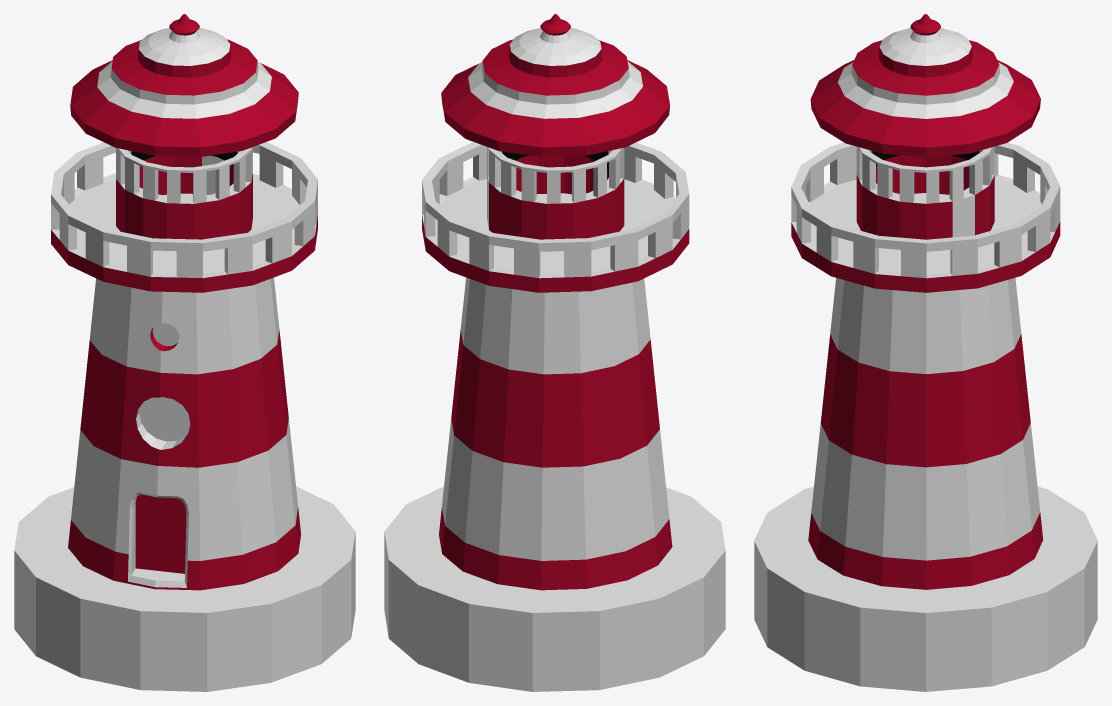
The model's file is lighthouse idle.fbx.
3 renders of one model, left to right at view 1: azimuth 30°, elevation 25°; view 2: azimuth 150°, elevation 25°; view 3: azimuth 270°, elevation 25°, orthographic.
Visible parts, largest first — view 1: Circle.001, Circle.127; view 2: Circle.001, Circle.127; view 3: Circle.001, Circle.127.
Boxes of the visible parts, left/top/right/bottom form: Circle.001: left=51, top=14, right=317, bottom=590; Circle.127: left=14, top=486, right=355, bottom=691; Circle.001: left=422, top=14, right=689, bottom=590; Circle.127: left=384, top=486, right=725, bottom=691; Circle.001: left=791, top=14, right=1060, bottom=589; Circle.127: left=754, top=486, right=1097, bottom=691.
Size of the model in its own units: 2567 by 4983 by 2567.
